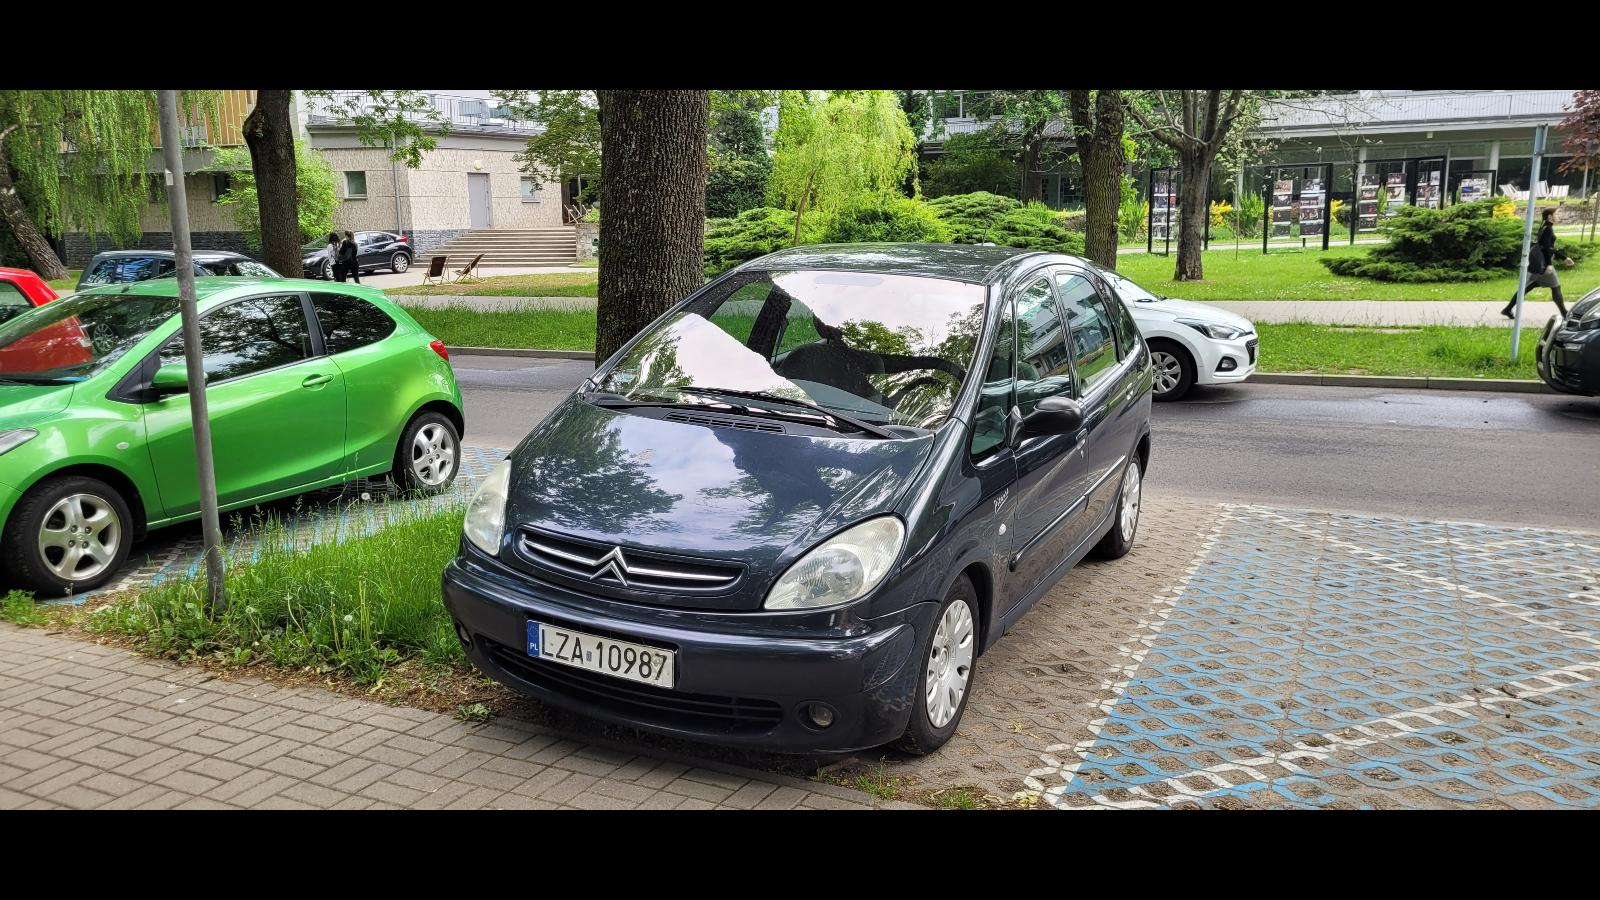plates: (526, 620, 674, 690)
